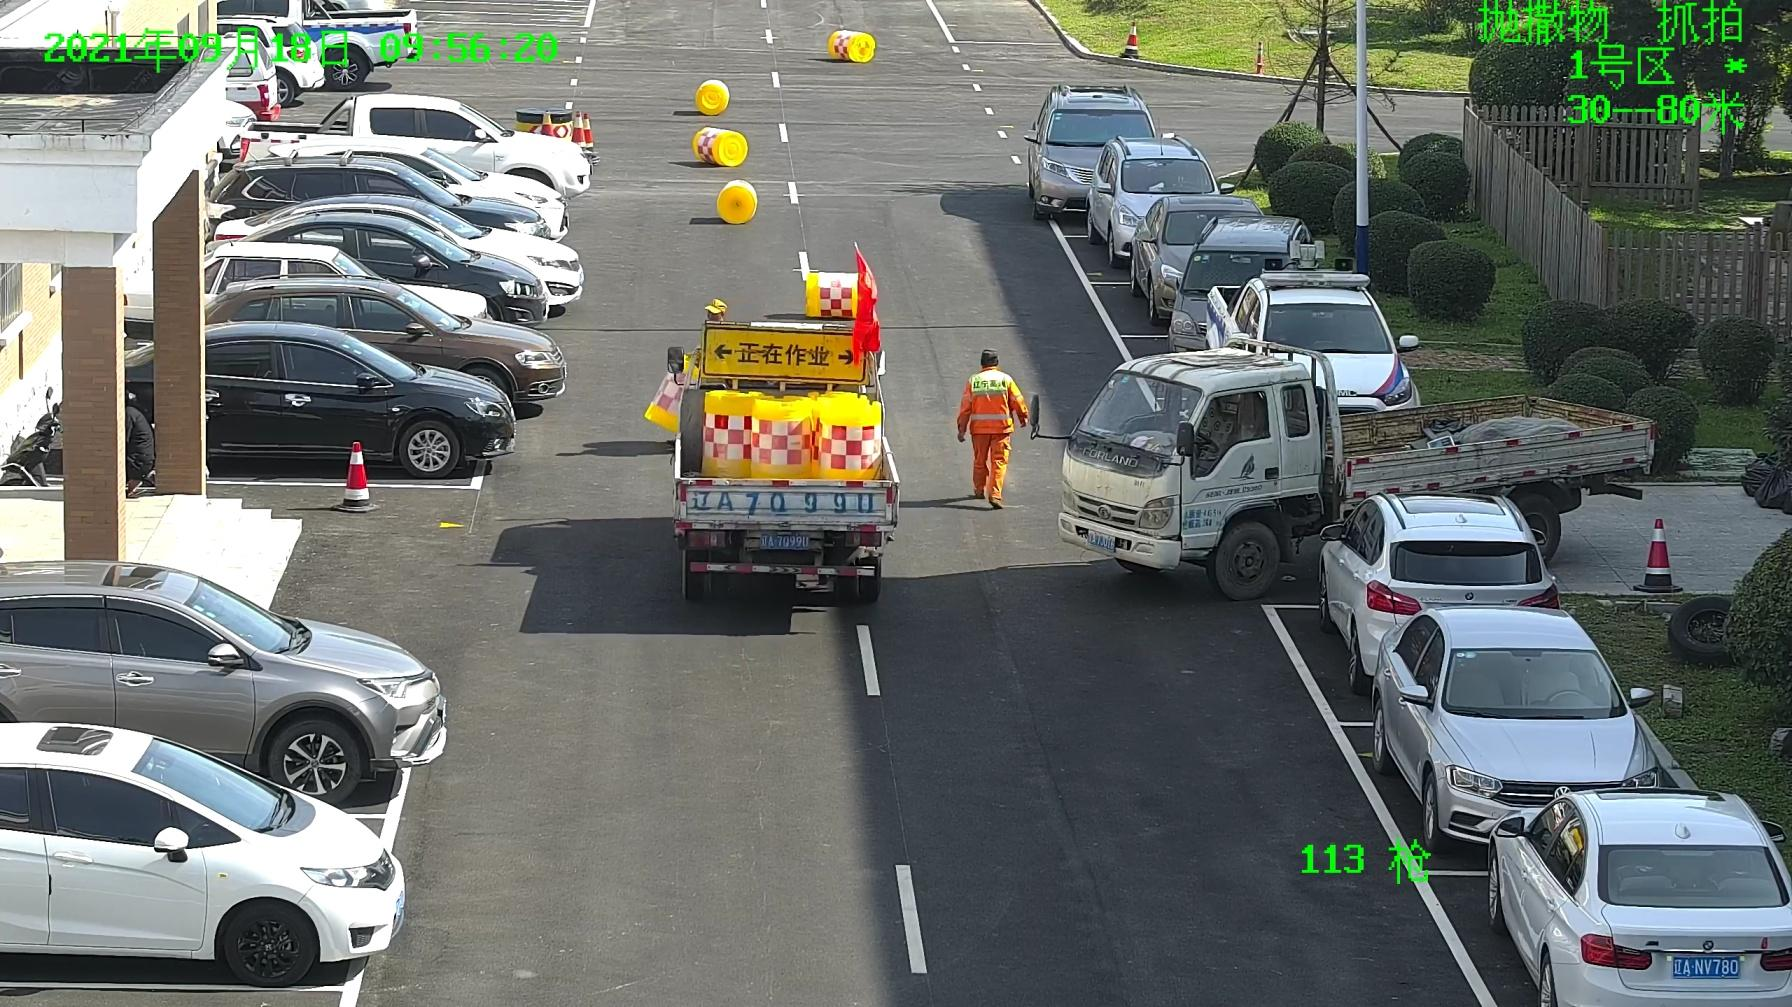cone_barrel: (699, 394, 761, 476), (815, 396, 878, 476), (747, 399, 810, 476), (642, 355, 700, 433), (802, 270, 864, 319), (690, 124, 748, 171), (711, 180, 758, 224), (826, 25, 878, 64), (692, 78, 731, 114)
